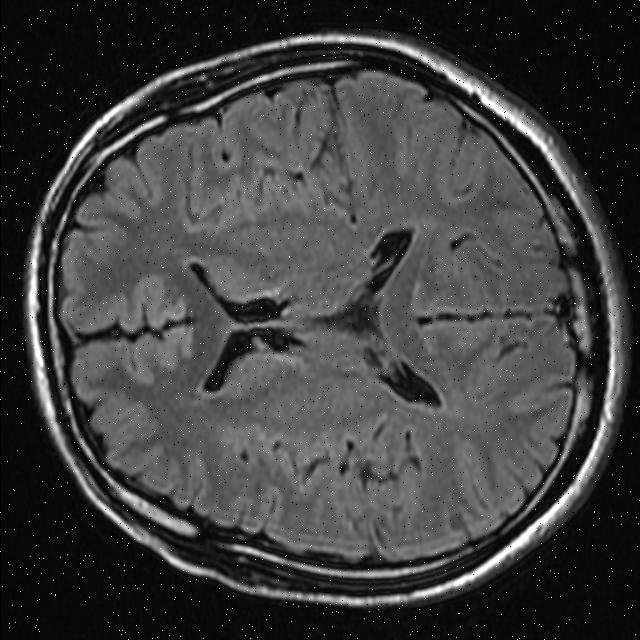No_Tumor: (26, 34, 628, 605)
